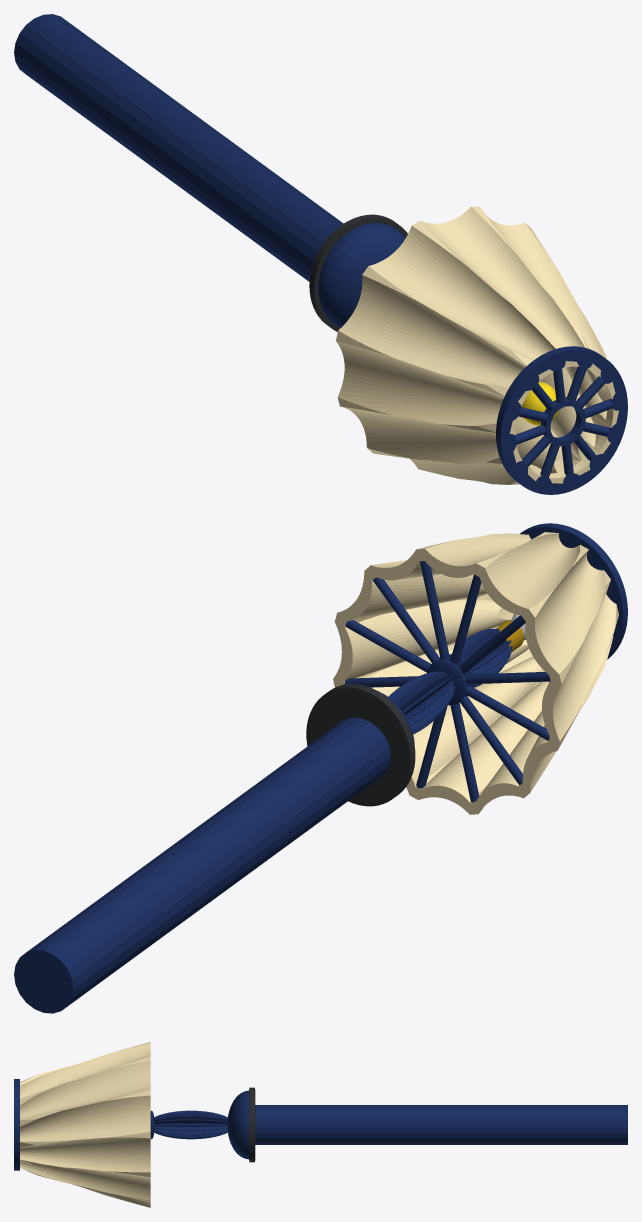
File: tinker.obj
3 views of the same model, one above another, from view 1: azimuth 30°, elevation 25°; view 2: azimuth 150°, elevation 25°; view 3: azimuth 270°, elevation 25° (orthographic). The views are drawn at different scales.
Parts seen in each view (by area): view 1: group_0_16311991, group_0_1650274, group_0_2829873; view 2: group_0_1650274, group_0_16311991, group_0_2829873; view 3: group_0_1650274, group_0_16311991, group_0_2829873.
Boxes of the visible parts, box(x1,y1,x2,y2) form: group_0_16311991: box(336, 206, 618, 484); group_0_1650274: box(14, 14, 627, 494); group_0_2829873: box(309, 214, 407, 331); group_0_1650274: box(14, 523, 627, 1013); group_0_16311991: box(333, 532, 618, 814); group_0_2829873: box(306, 684, 415, 806); group_0_1650274: box(14, 1079, 627, 1170); group_0_16311991: box(20, 1042, 150, 1207); group_0_2829873: box(249, 1087, 255, 1162).
Bounding box in the file's own units: 15.4 × 16.4 × 61.
